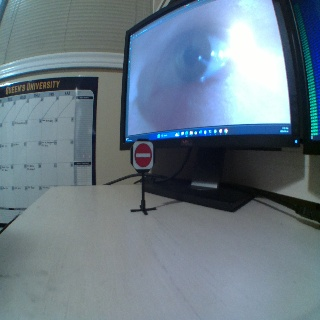sign_noentry: (131, 140, 152, 167)
